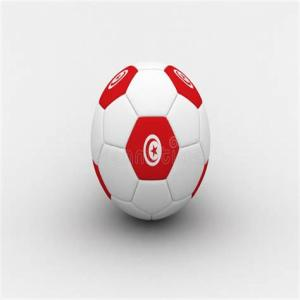Football: (90, 57, 212, 228)
